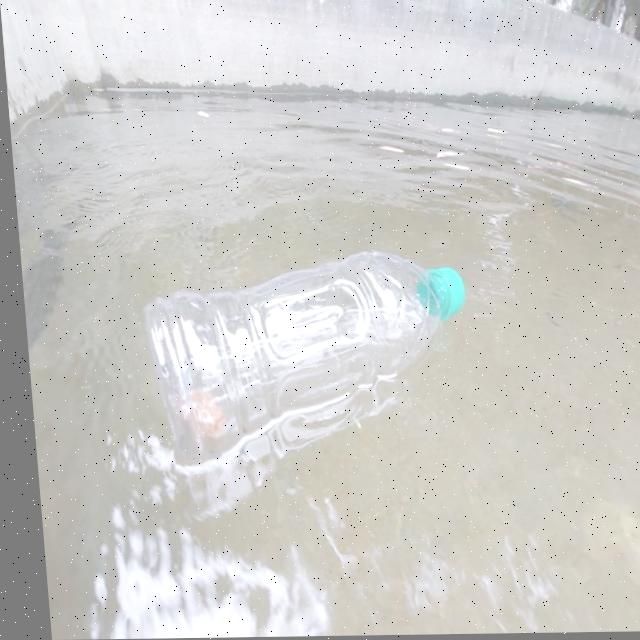waterbottle: (98, 240, 480, 479)
